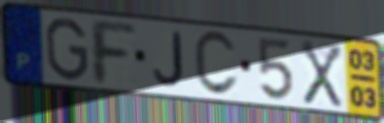5: (256, 36, 295, 102)
C: (192, 29, 241, 99)
F: (86, 17, 139, 88)
G: (43, 16, 91, 83)
J: (151, 30, 186, 89)
X: (299, 38, 344, 111)
